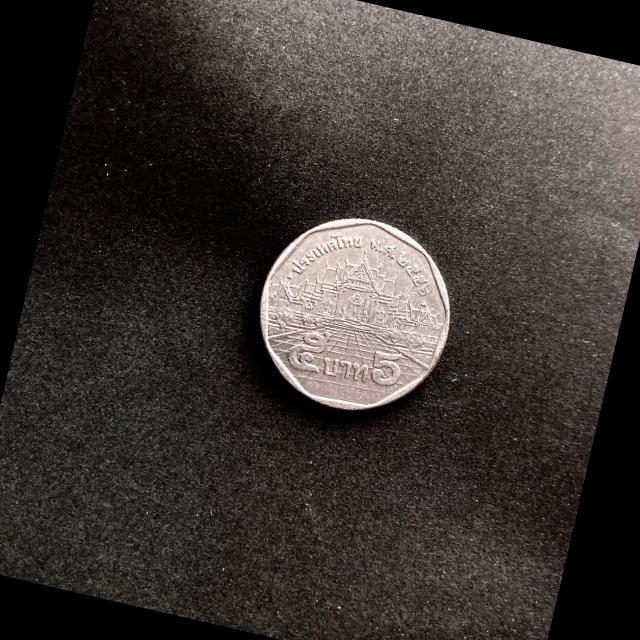5 Bath: (260, 218, 456, 413)
